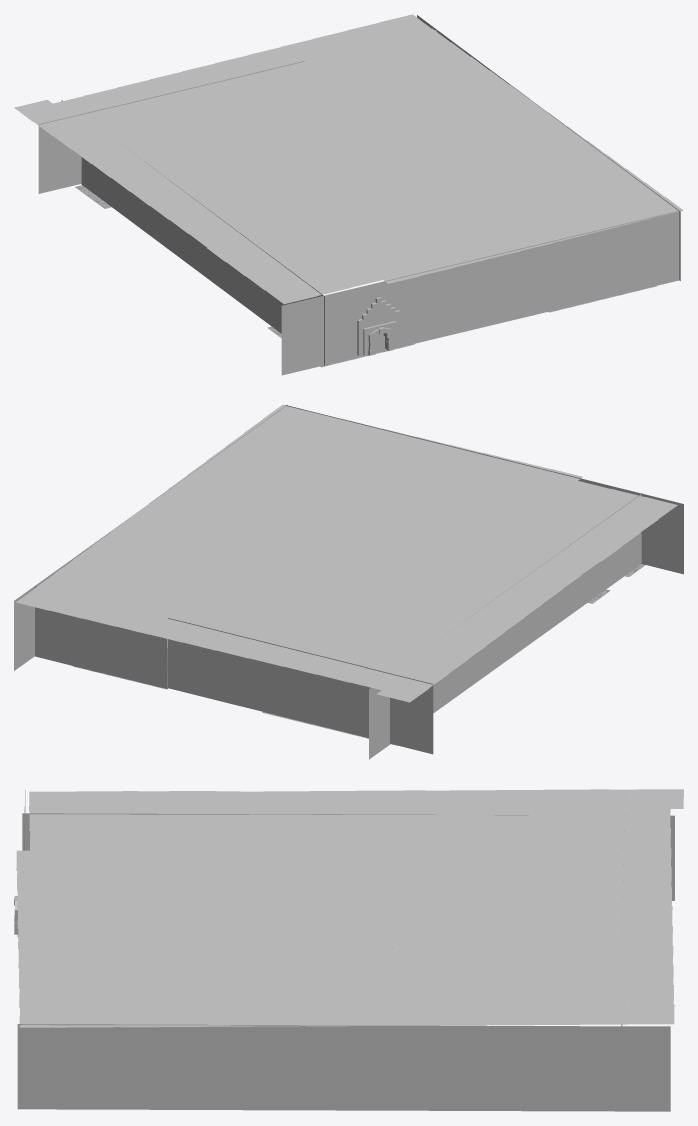
The model's file is ground5.FBX.
3 renders of one model, top to bottom at view 1: azimuth 30°, elevation 25°; view 2: azimuth 150°, elevation 25°; view 3: azimuth 270°, elevation 25°, orthographic. The views are drawn at different scales.
Parts seen in each view (by area): view 1: Wall Tile 4x031, Wall Tile 4x028, Wall Tile 4x026, Wall Tile 4x029, Wall Tile 4x027, Wall Tile 4x030, Wall Tile 4x010, Gate 3, Wall Tile 4x007, Wall Tile 4x006, Wall Tile 4x009, Wall Tile 4x008 (+169 smaller); view 2: Wall Tile 4x020, Wall Tile 4x022, Wall Tile 4x021, Wall Tile 4x019, Wall Tile 4x024, Wall Tile 4x010, Wall Tile 4x029, Wall Tile 4x012, Wall Tile 4x005, Wall Tile 4x4, Wall Tile 4x007, Wall Tile 4x011 (+169 smaller); view 3: Wall Tile 4x012, Wall Tile 4x013, Wall Tile 4x017, Wall Tile 4x014, Wall Tile 4x015, Wall Tile 4x016, Wall Tile 4x018, Ground + Flat Bright 8x202, Ground + Flat Bright 8x213, Ground + Flat Bright 8x256, Ground + Flat Bright 8x282, Ground + Flat Bright 8x243 (+163 smaller).
Part boxes in pixels (x1,y1,x2,y2): Wall Tile 4x031: [613, 210, 680, 295]; Wall Tile 4x028: [480, 242, 547, 327]; Wall Tile 4x026: [547, 226, 613, 311]; Wall Tile 4x029: [281, 290, 348, 375]; Wall Tile 4x027: [414, 258, 480, 343]; Wall Tile 4x030: [348, 274, 414, 359]; Wall Tile 4x010: [38, 108, 105, 193]; Gate 3: [357, 297, 400, 355]; Wall Tile 4x007: [211, 212, 249, 309]; Wall Tile 4x006: [174, 184, 211, 281]; Wall Tile 4x009: [136, 161, 174, 253]; Wall Tile 4x008: [99, 169, 136, 225]; Wall Tile 4x020: [300, 651, 366, 737]; Wall Tile 4x022: [234, 634, 300, 720]; Wall Tile 4x021: [168, 618, 234, 704]; Wall Tile 4x019: [35, 586, 101, 672]; Wall Tile 4x024: [102, 623, 167, 688]; Wall Tile 4x010: [366, 667, 433, 754]; Wall Tile 4x029: [617, 487, 683, 574]; Wall Tile 4x012: [14, 573, 53, 670]; Wall Tile 4x005: [564, 521, 603, 619]; Wall Tile 4x4: [603, 493, 642, 591]; Wall Tile 4x007: [525, 549, 564, 647]; Wall Tile 4x011: [369, 687, 390, 759]; Wall Tile 4x012: [576, 1026, 670, 1111]; Wall Tile 4x013: [390, 1025, 483, 1110]; Wall Tile 4x017: [17, 1024, 111, 1109]; Wall Tile 4x014: [483, 1025, 576, 1111]; Wall Tile 4x015: [204, 1024, 297, 1110]; Wall Tile 4x016: [297, 1025, 389, 1110]; Wall Tile 4x018: [111, 1024, 203, 1109]; Ground + Flat Bright 8x202: [297, 888, 344, 908]; Ground + Flat Bright 8x213: [577, 867, 624, 887]; Ground + Flat Bright 8x256: [625, 906, 672, 926]; Ground + Flat Bright 8x282: [110, 889, 157, 909]; Ground + Flat Bright 8x243: [485, 946, 532, 966].
Size of the model in its own units: 192 by 228 by 32.41.
